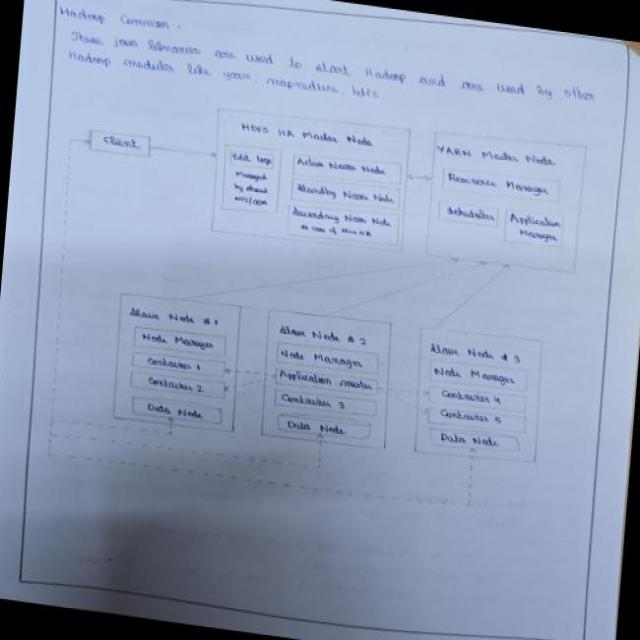Figure Detection - v3 Dataset Version2: (30, 63, 607, 537)
